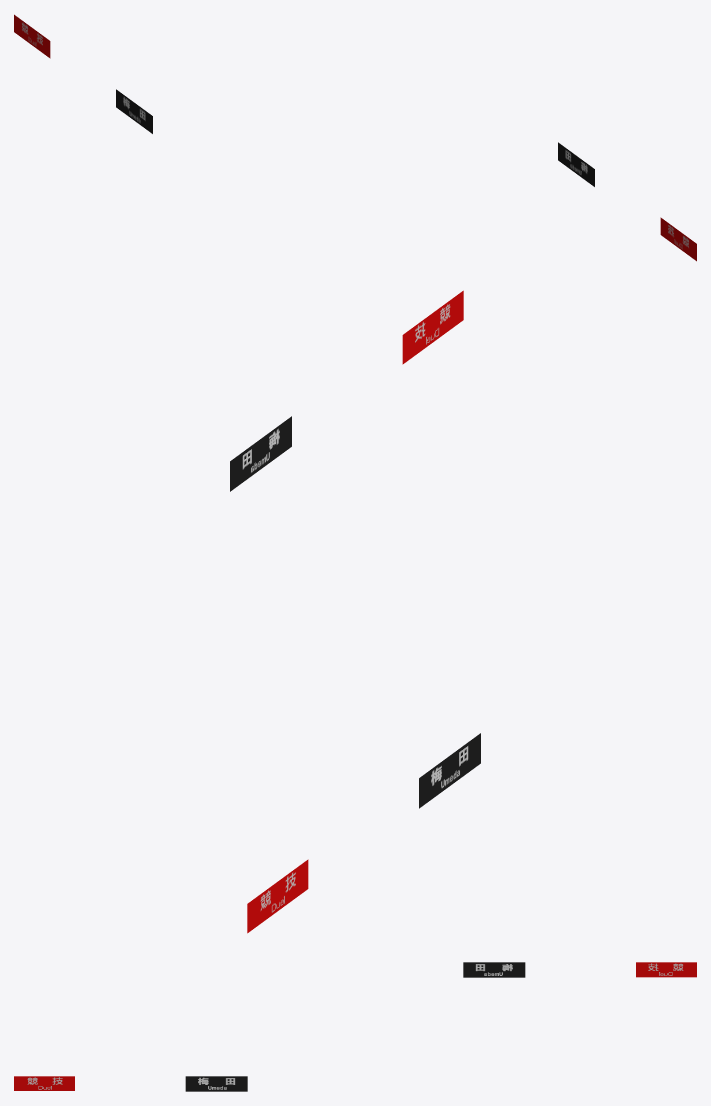
Rendered from H7000_1_UMEDA.glb.
The picture shows the model from 3 angles, top to bottom: view 1: azimuth 30°, elevation 25°; view 2: azimuth 150°, elevation 25°; view 3: azimuth 270°, elevation 25°; orthographic projection. The views are drawn at different scales.
Visible parts, largest first — view 1: FRAME_ROOT; view 2: FRAME_ROOT; view 3: FRAME_ROOT.
Part boxes in pixels (bbox=[...]): FRAME_ROOT: bbox=[14, 14, 696, 261]; FRAME_ROOT: bbox=[230, 290, 480, 933]; FRAME_ROOT: bbox=[14, 962, 696, 1091].
Bounding box in the file's own units: 6.49 × 0.4067 × 16.47.
Materials: 2 (2 with a texture image).
